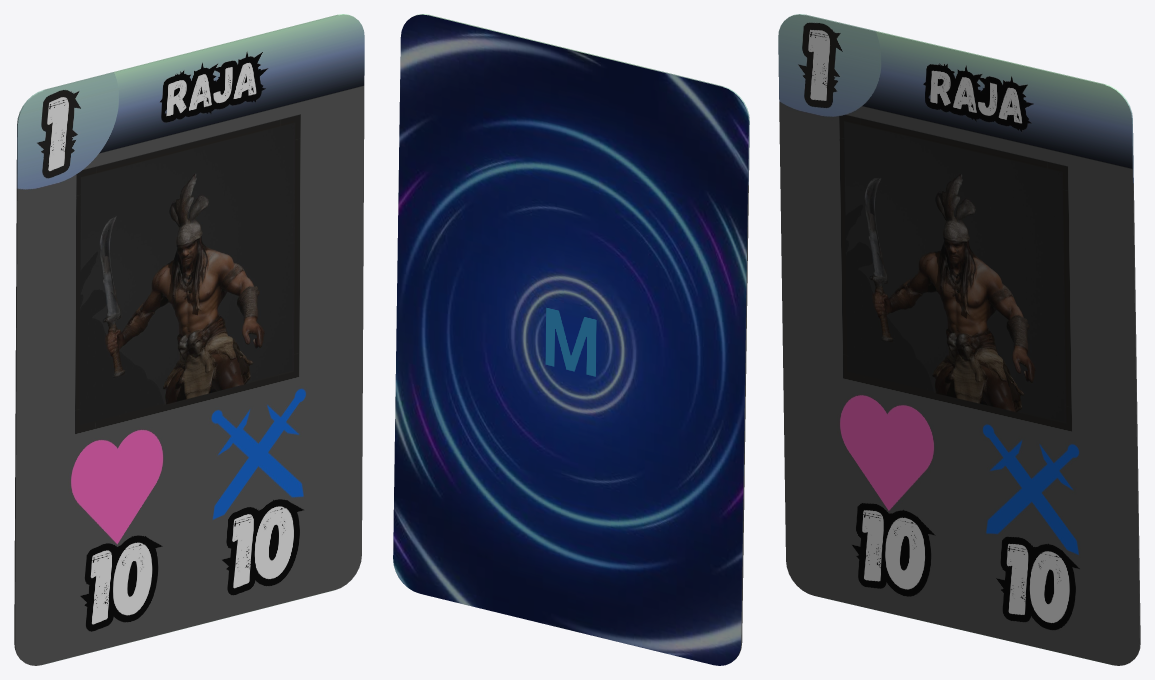
Rendered from Raja2.glb.
3 views of the same model, side by side, from view 1: azimuth 30°, elevation 25°; view 2: azimuth 150°, elevation 25°; view 3: azimuth 330°, elevation 25° (orthographic).
Visible parts, largest first — view 1: Card; view 2: Card; view 3: Card.
Part boxes in pixels (<box>): Card: <box>14,14,364,665</box>; Card: <box>393,14,749,665</box>; Card: <box>778,14,1140,665</box>.
Bounding box in the file's own units: 0.0564 × 0.0891 × 0.0024.
2 materials, 2 textured.
